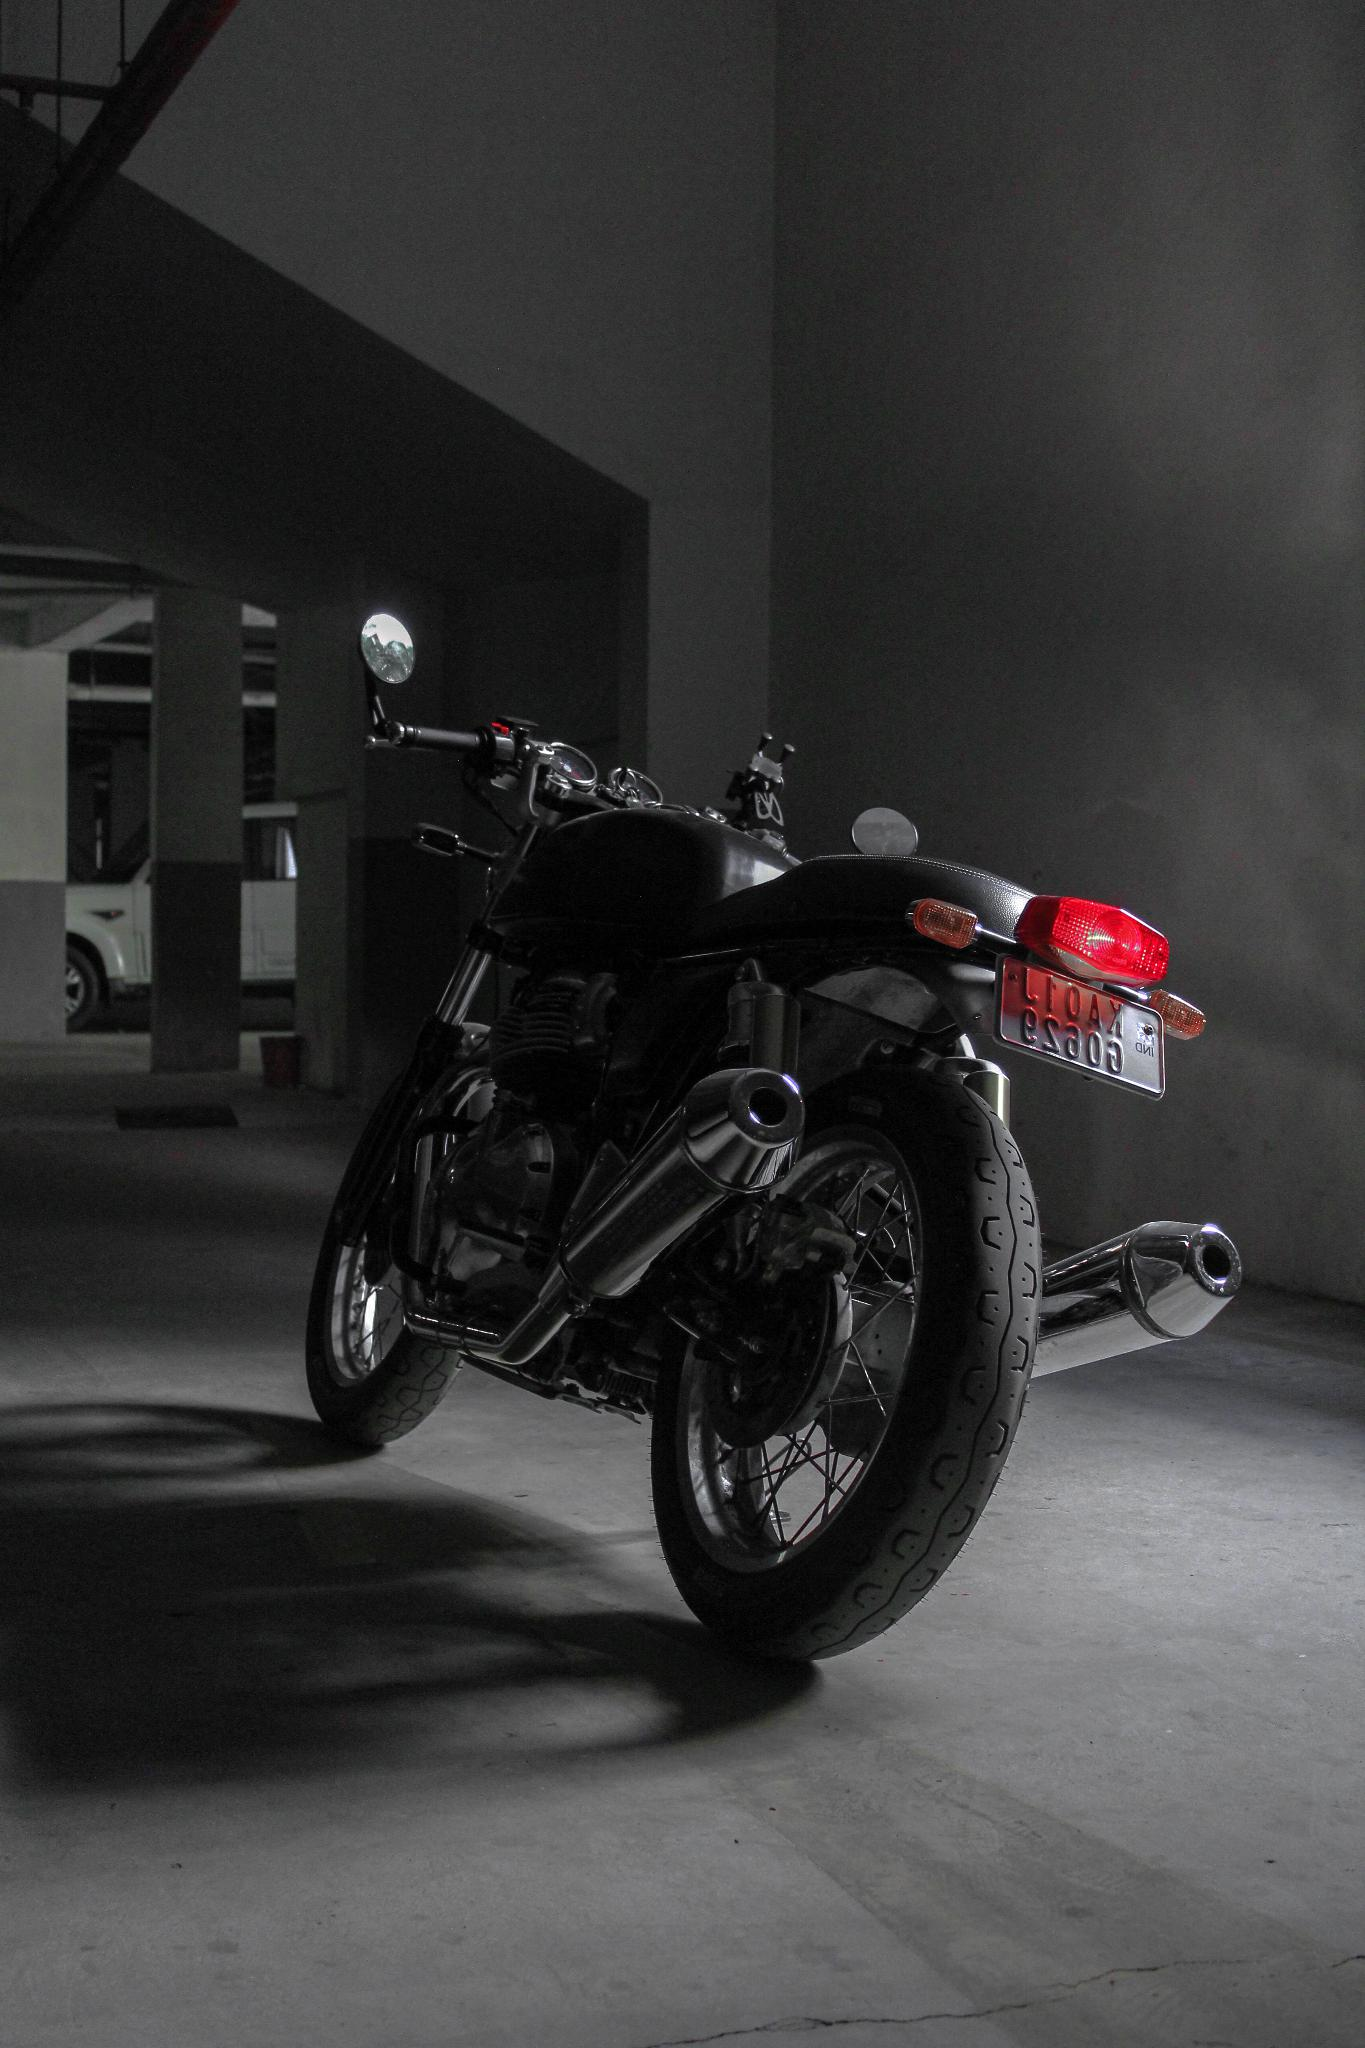motorcycle: (288, 585, 1258, 1667)
